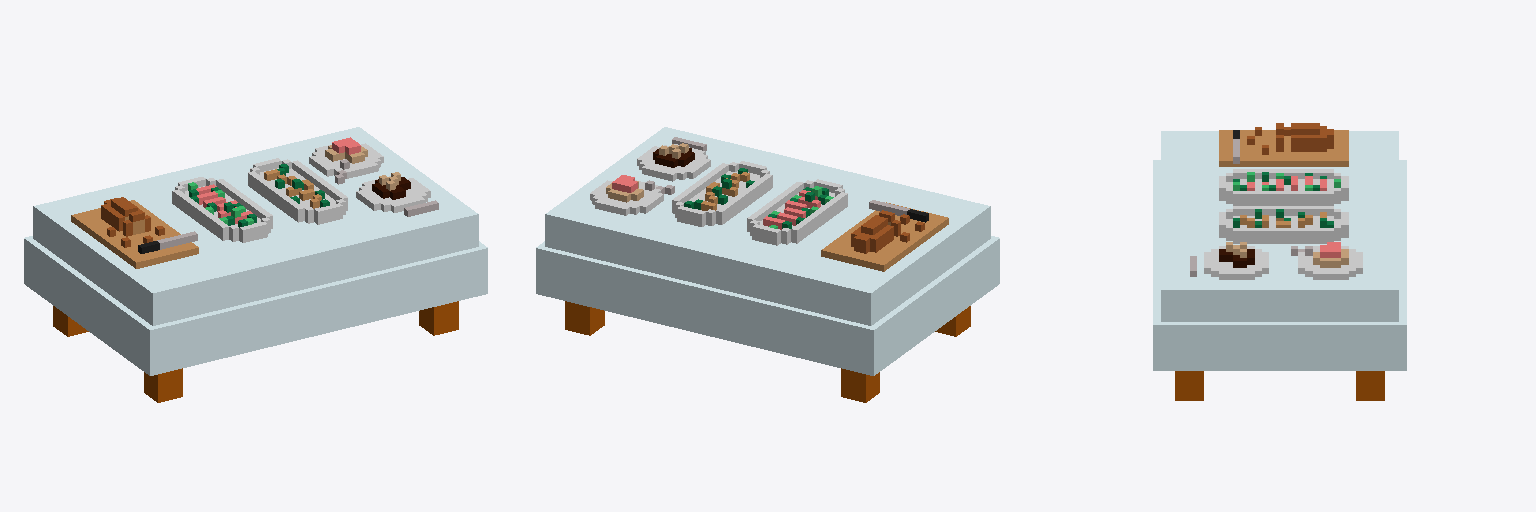
The picture shows the model from 3 angles: view 1: azimuth 30°, elevation 25°; view 2: azimuth 150°, elevation 25°; view 3: azimuth 270°, elevation 25°; orthographic projection.
Visible parts, largest first — view 1: Env_Obj_Location_Diner; view 2: Env_Obj_Location_Diner; view 3: Env_Obj_Location_Diner.
Part boxes in pixels (x1,y1,x2,y2): Env_Obj_Location_Diner: (24, 127, 487, 402); Env_Obj_Location_Diner: (536, 127, 999, 402); Env_Obj_Location_Diner: (1153, 123, 1406, 400).
Size of the model in its own units: 5.46 by 2.22 by 3.54.
1 materials, 1 textured.